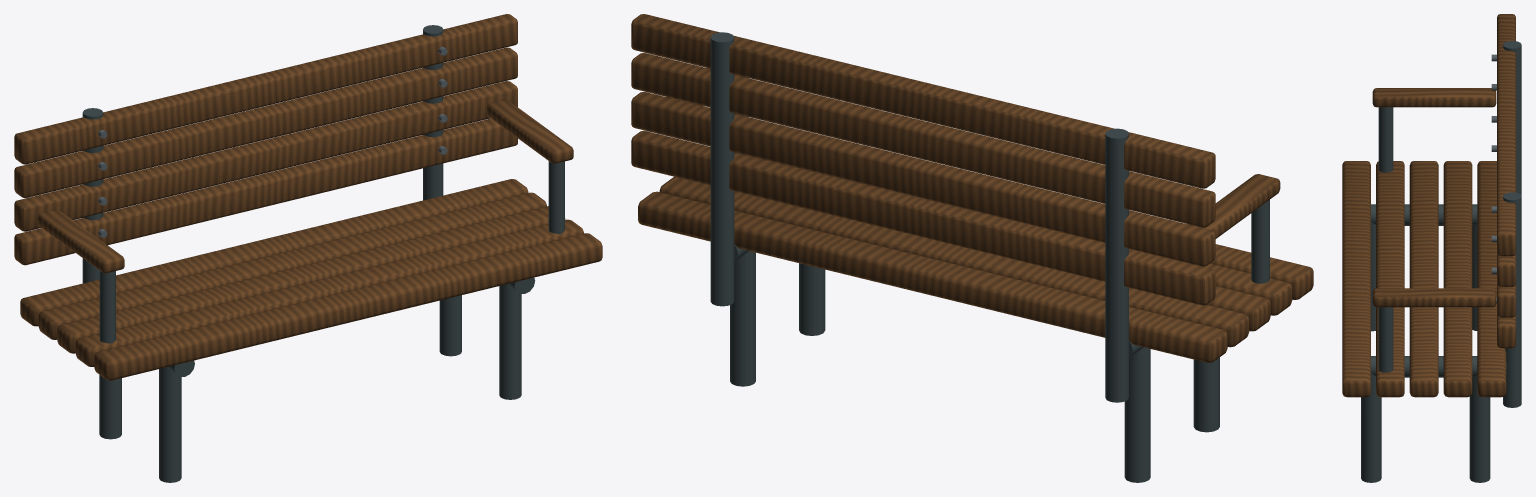
File: LakesideBench.fbx
3 renders of one model, left to right at view 1: azimuth 30°, elevation 25°; view 2: azimuth 150°, elevation 25°; view 3: azimuth 270°, elevation 25°, orthographic. The views are drawn at different scales.
Visible parts, largest first — view 1: CinemaTimber_Mesh, CinemaDark_Mesh; view 2: CinemaTimber_Mesh, CinemaDark_Mesh; view 3: CinemaTimber_Mesh, CinemaDark_Mesh, CinemaSteel_Mesh.
Boxes of the visible parts, x1,y1,x2,y2 form: CinemaTimber_Mesh: [14, 14, 602, 380]; CinemaDark_Mesh: [82, 25, 564, 482]; CinemaTimber_Mesh: [631, 14, 1313, 362]; CinemaDark_Mesh: [710, 32, 1269, 482]; CinemaTimber_Mesh: [1342, 14, 1515, 397]; CinemaDark_Mesh: [1361, 40, 1521, 482]; CinemaSteel_Mesh: [1491, 54, 1496, 303].
Size of the model in its own units: 1.78 by 1.06 by 0.611.
